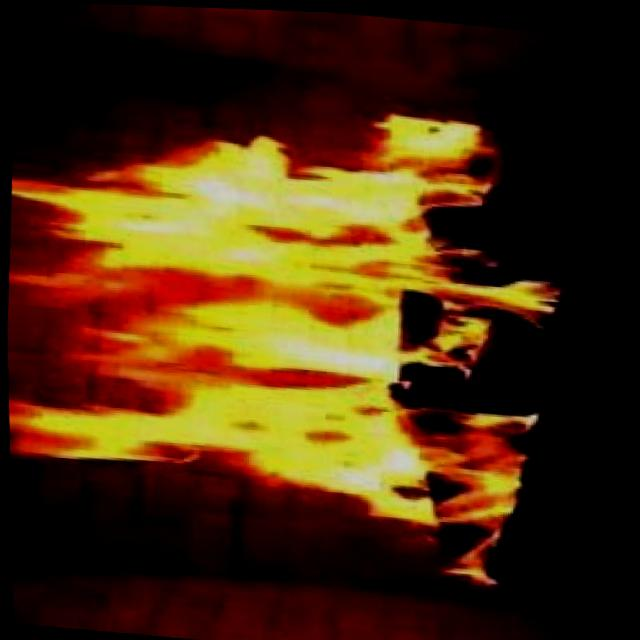Fire: (1, 74, 571, 591)
